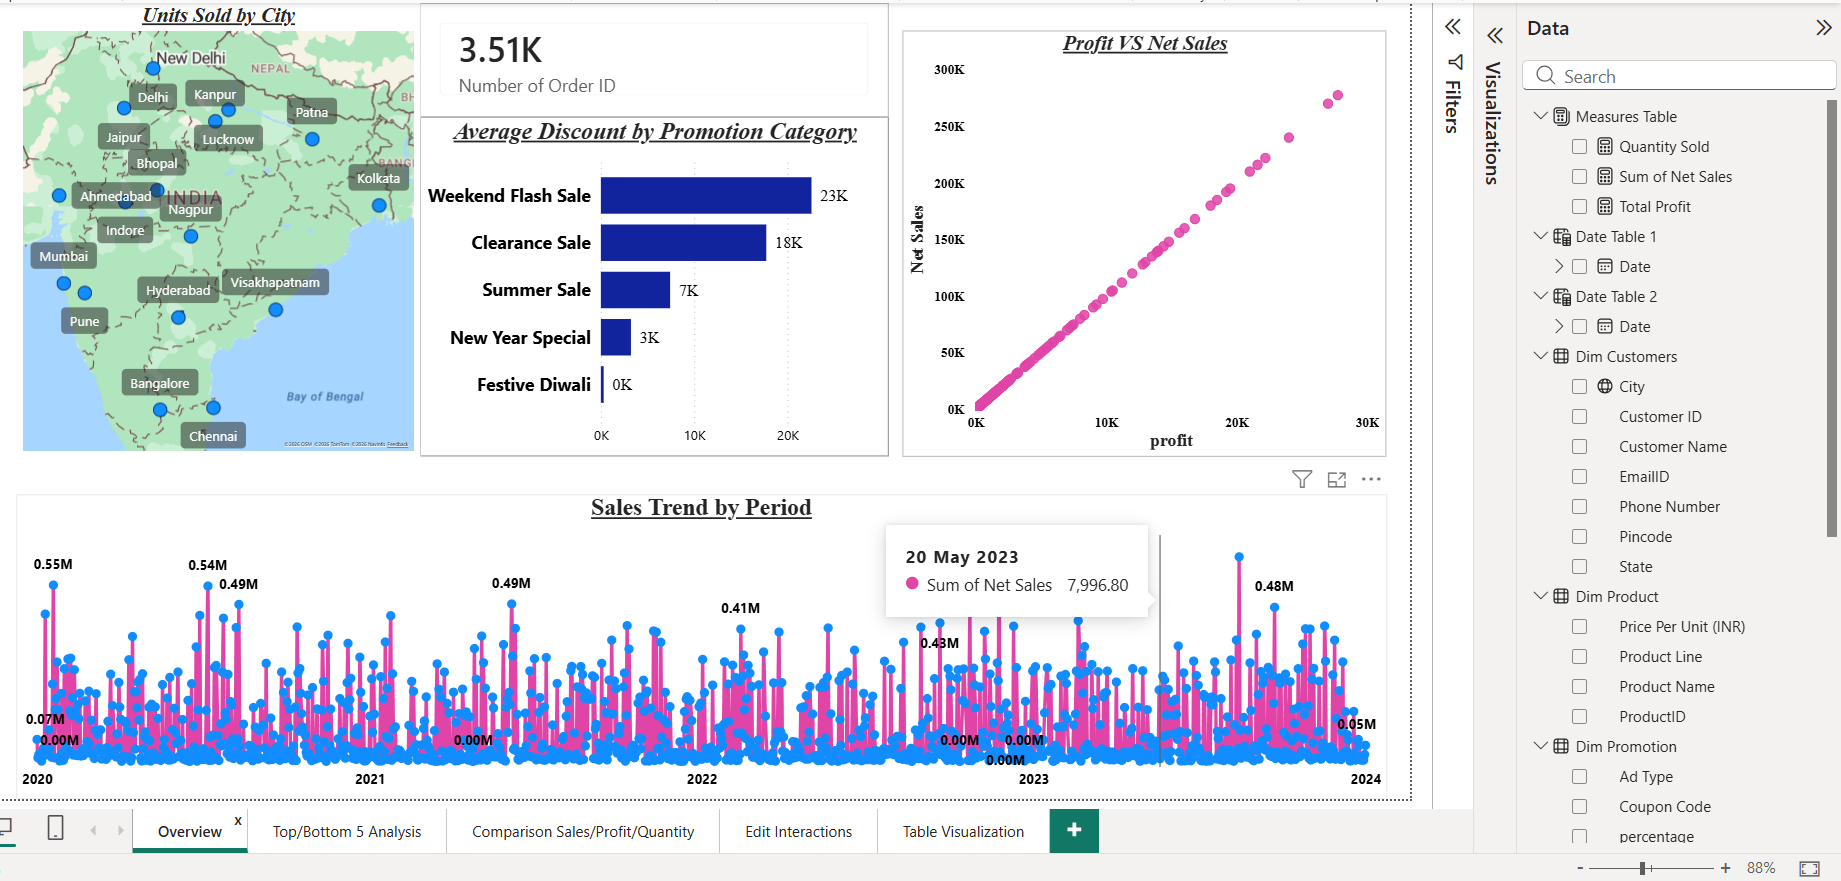

The dashboard page shown, as its layout file describes it:
{"tool":"powerbi","page":{"name":"Overview","canvas":[1280,720],"ordinal":0},"visuals":[{"type":"lineChart","title":"Sales Trend by Period","fields":{"Y":["Sum(Fact Table.Net Sales)"],"Category":["Fact Table.Date (dd/mm/yyyy).Variation.Date Hierarchy.Year"]},"box":[19.6,444,1239.7,275.9],"z":0},{"type":"scatterChart","title":"Profit VS Net Sales","fields":{"Y":["Fact Table.Net Sales"],"X":["Fact Table.profit"]},"box":[820.6,24.7,437.7,385.6],"z":1000},{"type":"barChart","title":"Average Discount by Promotion Category","fields":{"Category":["Dim Promotion.Promotion Name"],"Y":["Avg(Fact Table.Discount Value)"]},"box":[384.2,102.9,424,307.4],"z":2000},{"type":"cardVisual","title":"Number of IDs","fields":{"Data":["Count(Fact Table.Order ID)"]},"box":[384.2,0,424,102.9],"z":3000},{"type":"azureMap","title":"Units Sold by City","fields":{"Category":["Dim Customers.City"]},"box":[20.6,0,363.6,410.3],"z":4000}]}

Visuals, with their boxes on the page's 1280x720 design canvas (x1, y1, x2, y2). These are canvas units, not pixel positions in the 1841x881 screenshot, which may show the page scaled, cropped or inside an application window:
"Sales Trend by Period" lineChart: BBox(20, 444, 1259, 720)
"Profit VS Net Sales" scatterChart: BBox(821, 25, 1258, 410)
"Average Discount by Promotion Category" barChart: BBox(384, 103, 808, 410)
"Number of IDs" cardVisual: BBox(384, 0, 808, 103)
"Units Sold by City" azureMap: BBox(21, 0, 384, 410)
